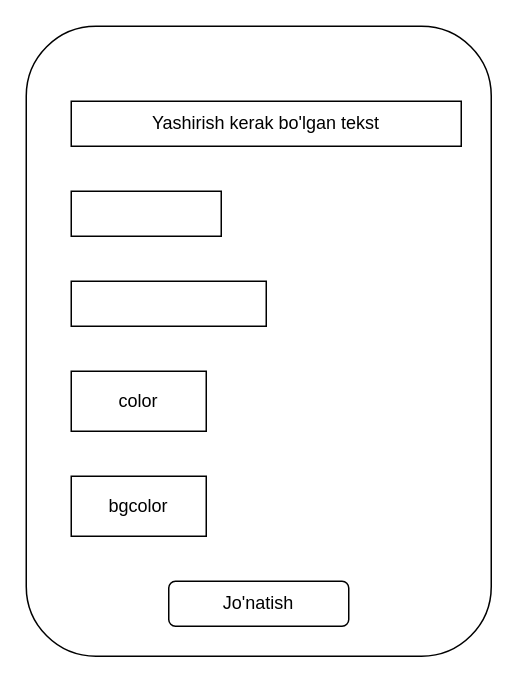
Image size: 518x683. Some labels were removed from this diagram. Here are the shapes that lost their labels. From the top down, the centre of each, then its label:
point 145,213: size
point 168,303: select, format
